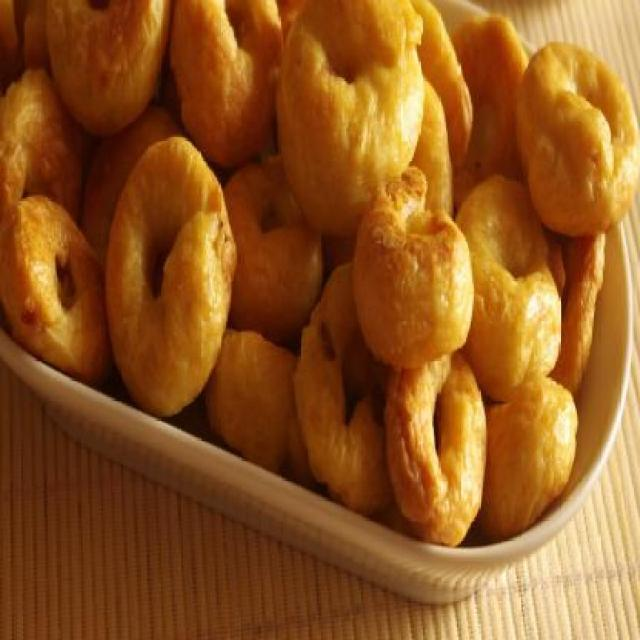Taralli: (15, 16, 636, 556)
